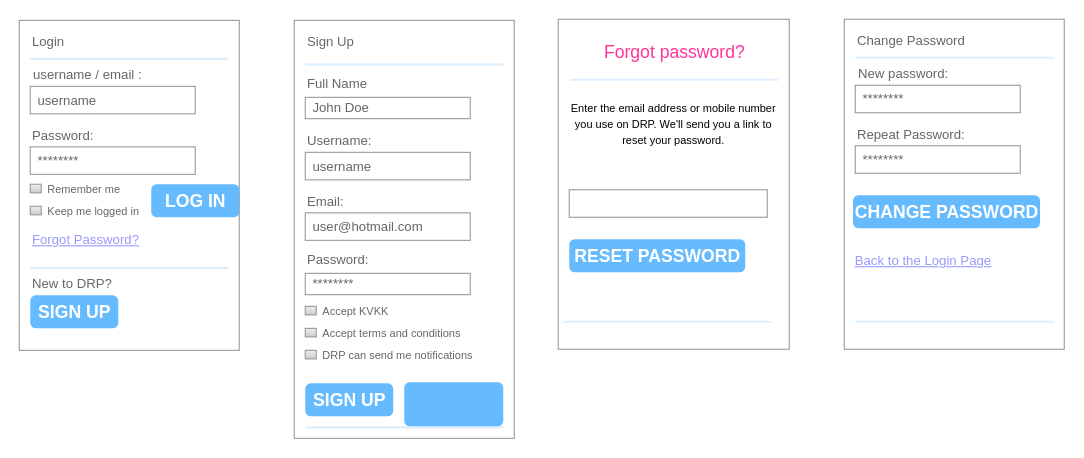
The diagram is 1084 pixels wide and 458 high, and some of its shapes have lost their labels. The shapes that lost their labels are listed below. From the top down, each one's centre as x and y in pixels, then its label:
At point 662,178: "Email / Mobile Number:".
At point 667,203: "0(*** *** ** **) / email@***.com".
At point 453,404: "Back Login Page".
